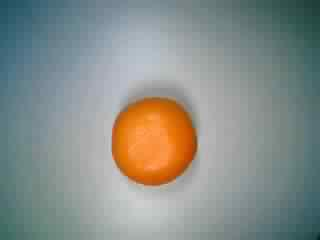orange: (103, 93, 198, 187)
